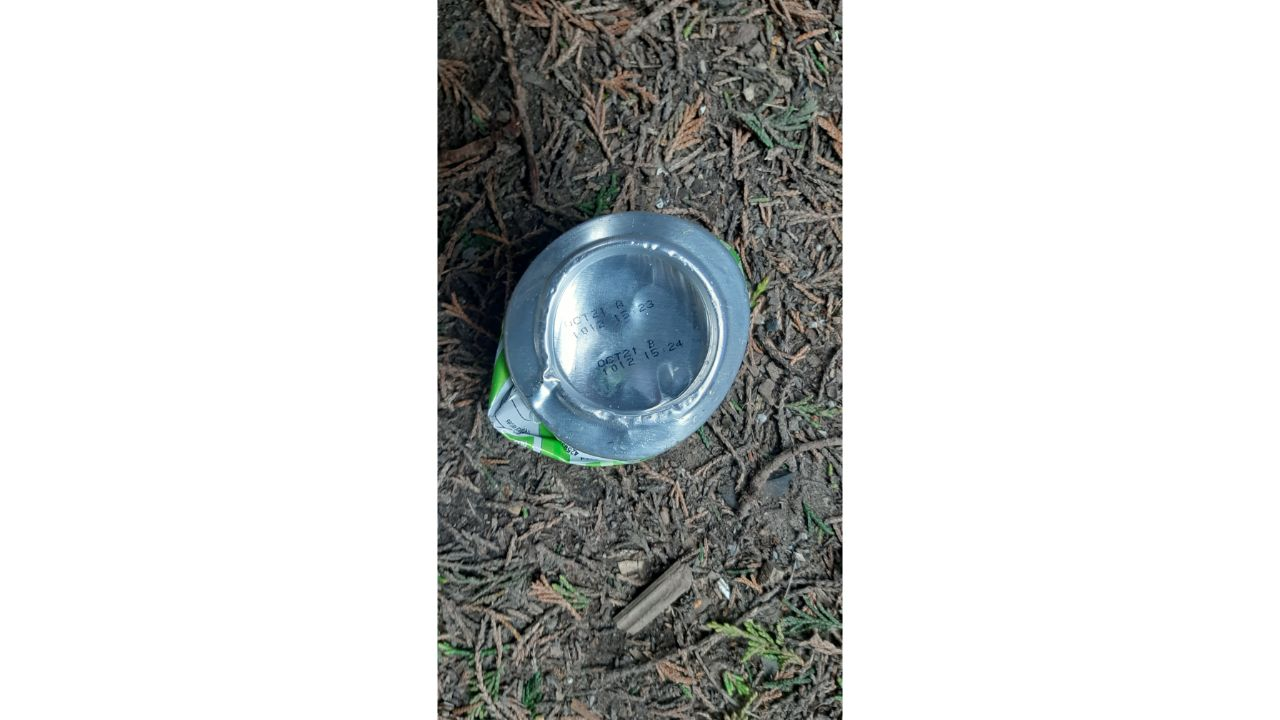Can: (486, 205, 751, 467)
